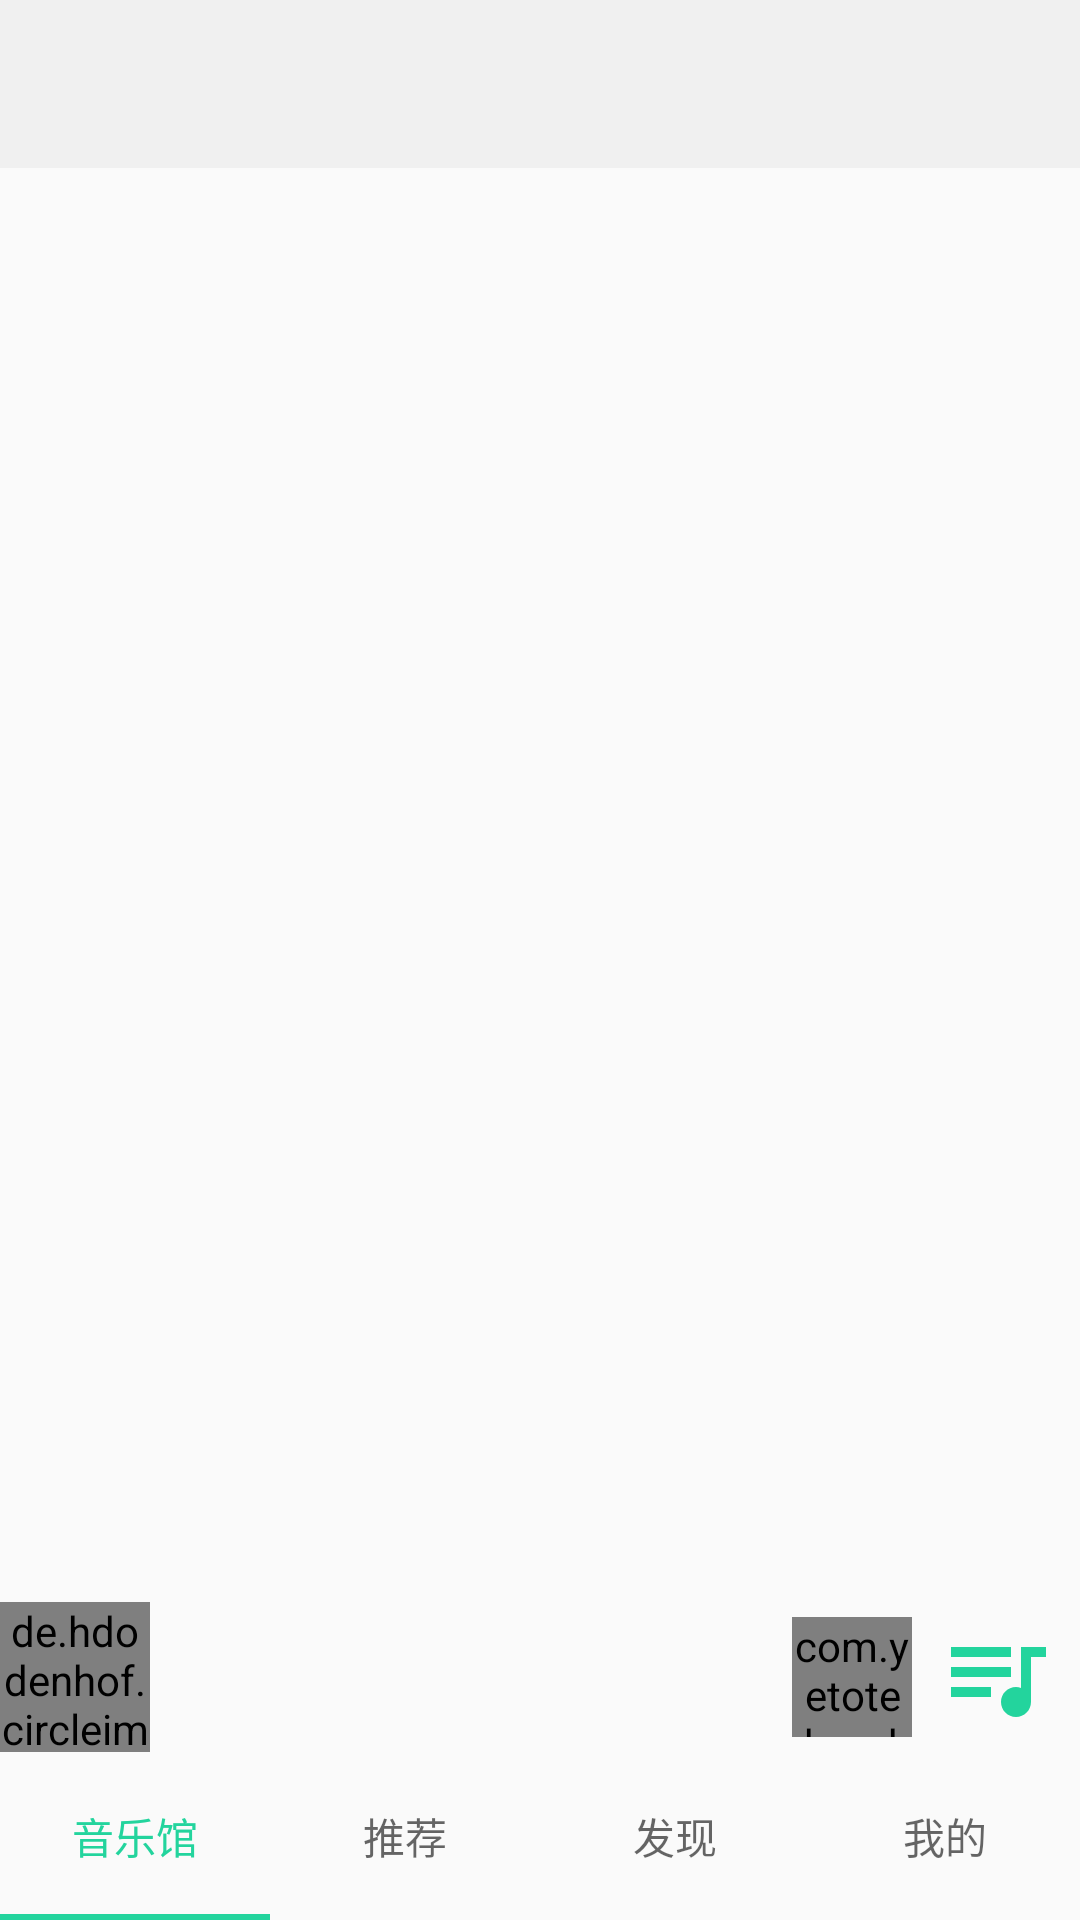

Point at icon controls on the screen. Image size 1080 × 1920, points as [x,y].
music queue: [998,1682]
